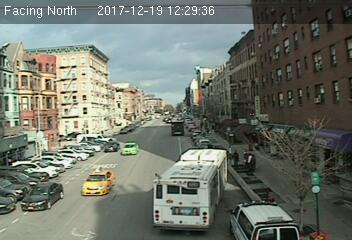bus: (151, 147, 229, 232)
car: (23, 182, 61, 210), (83, 168, 114, 197), (120, 142, 139, 155), (103, 140, 119, 153)
police: (229, 200, 302, 240)
ups: (171, 121, 184, 135)
